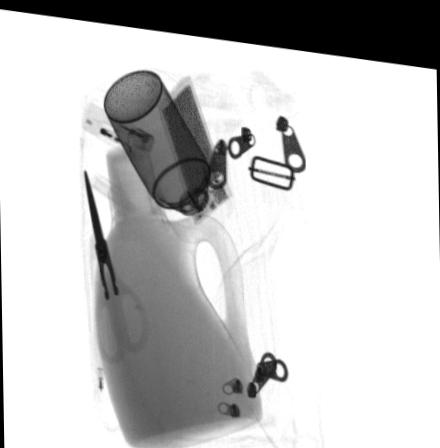Lighter: (81, 96, 157, 160)
Powerbank: (155, 68, 237, 217)
Scissors: (81, 164, 148, 359)
Sprayer: (104, 63, 237, 237)
